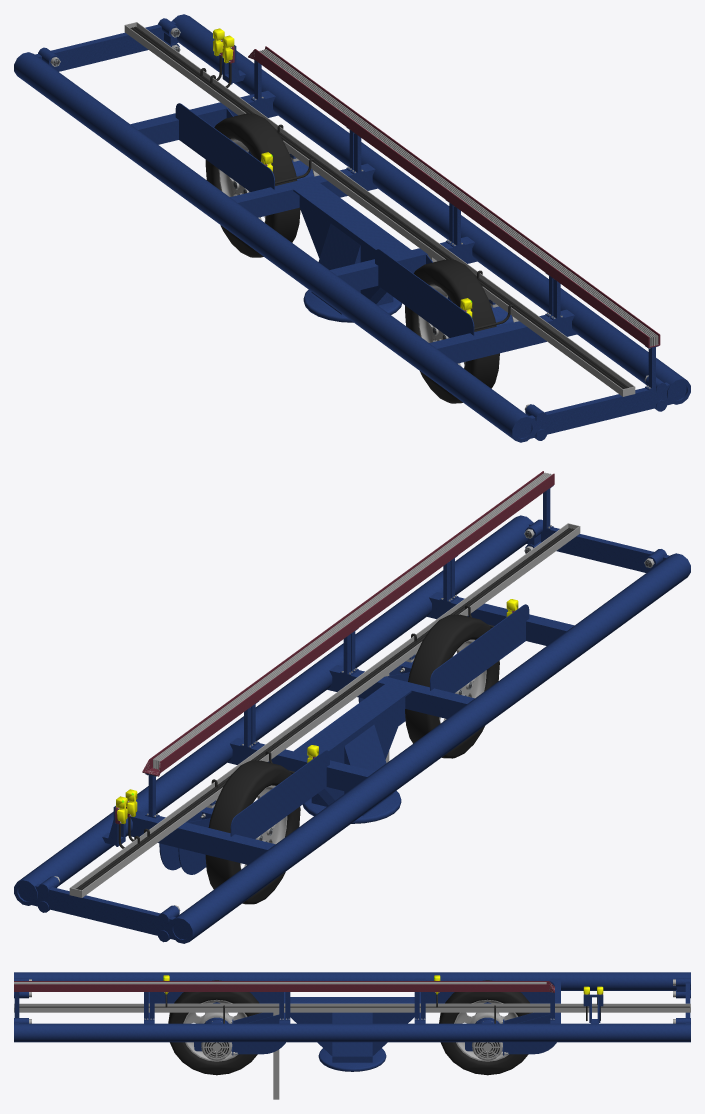
The model's file is Station End section.dae.
3 views of the same model, one above another, from view 1: azimuth 30°, elevation 25°; view 2: azimuth 150°, elevation 25°; view 3: azimuth 270°, elevation 25° (orthographic). The views are drawn at different scales.
Parts seen in each view (by area): view 1: Track (×8), Mid_Detail (×9), wheel1, wheel0, High_Detail (×2); view 2: Track (×8), Mid_Detail (×9), High_Detail (×3), wheel1, wheel0; view 3: Track (×6), Mid_Detail (×9), High_Detail (×6), wheel0 (×3), wheel1 (×3).
Part boxes in pixels (left/top/right/bottom): Track (×8): left=14, top=14, right=690, bottom=442; Mid_Detail (×9): left=124, top=22, right=659, bottom=396; wheel1: left=205, top=113, right=300, bottom=257; wheel0: left=405, top=259, right=499, bottom=403; High_Detail (×2): left=131, top=26, right=628, bottom=388; Track (×8): left=14, top=515, right=690, bottom=943; Mid_Detail (×9): left=69, top=471, right=580, bottom=897; High_Detail (×3): left=76, top=527, right=573, bottom=889; wheel1: left=205, top=760, right=300, bottom=904; wheel0: left=405, top=614, right=499, bottom=758; Track (×6): left=14, top=972, right=690, bottom=1071; Mid_Detail (×9): left=14, top=980, right=690, bottom=1099; High_Detail (×6): left=19, top=994, right=690, bottom=1059; wheel0 (×3): left=168, top=980, right=261, bottom=1075; wheel1 (×3): left=439, top=980, right=532, bottom=1075.
Size of the model in its own units: 40.76 by 197 by 39.54.
9 materials, 3 textured.
